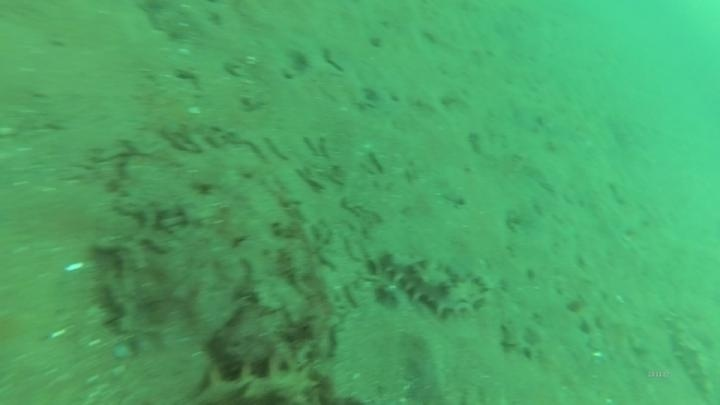holothurian: (372, 247, 491, 321), (186, 355, 324, 404), (664, 315, 719, 404)
